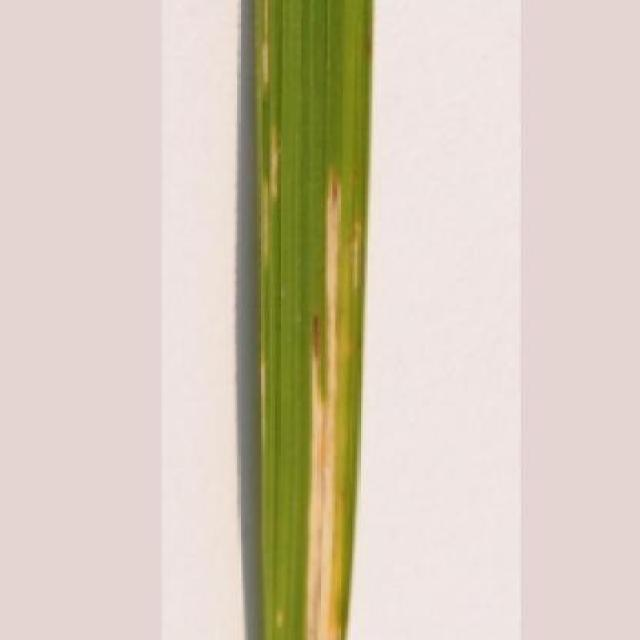Brown_Spot: (243, 0, 379, 640)
